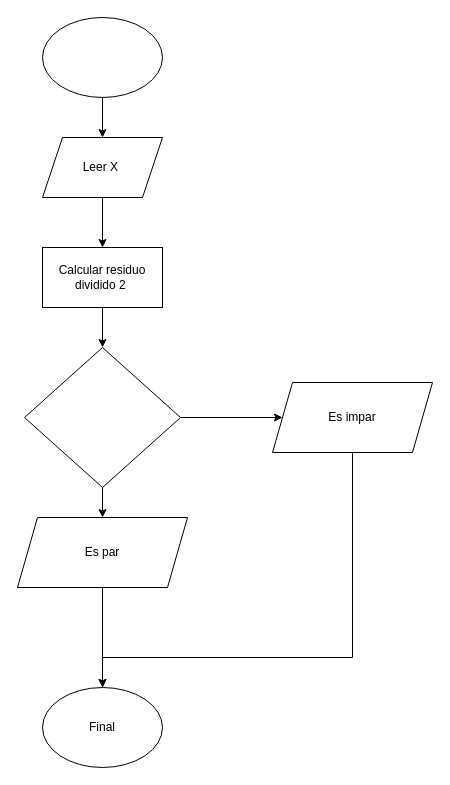
This 450x785 diagram has some shape labels left out. Here are the shapes that lost their labels. From the top down, the box of each, then its label:
(42, 16, 162, 98): Inicio
(24, 346, 180, 488): Es residuo mayor a 0?
